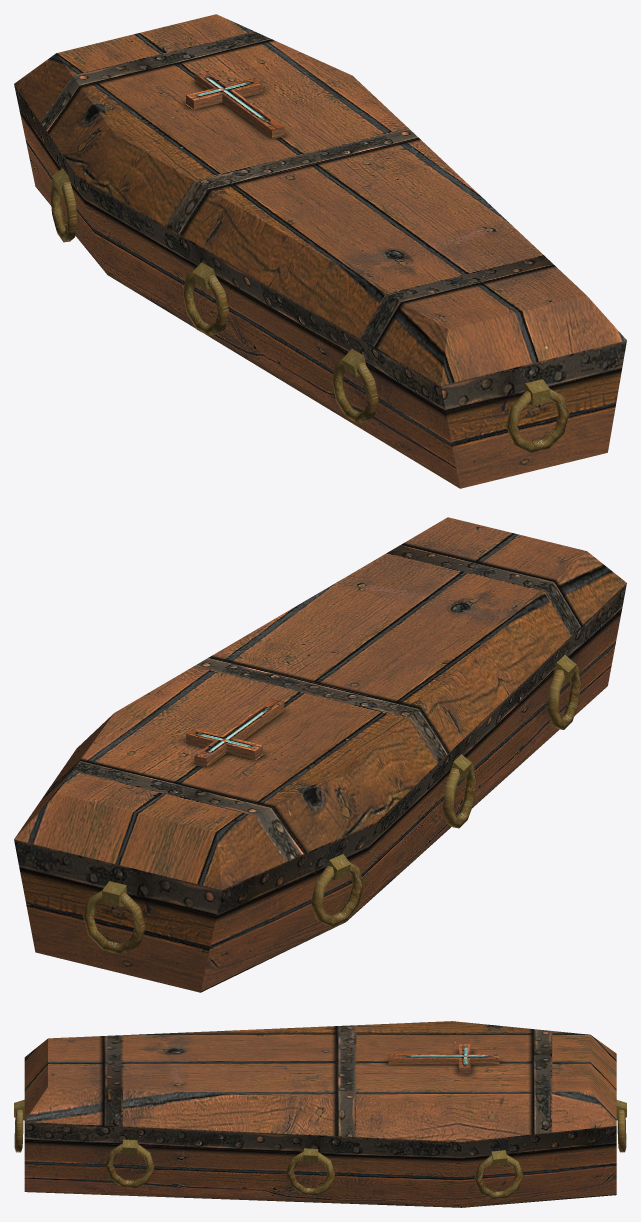
File: Coffin.fbx
The picture shows the model from 3 angles, top to bottom: view 1: azimuth 30°, elevation 25°; view 2: azimuth 150°, elevation 25°; view 3: azimuth 270°, elevation 25°; orthographic projection. The views are drawn at different scales.
Visible parts, largest first — view 1: coffin_lid, coffin_base; view 2: coffin_lid, coffin_base; view 3: coffin_lid, coffin_base.
Boxes of the visible parts, box(x1,y1,x2,y2) form: coffin_lid: box(14, 14, 626, 385); coffin_base: box(14, 84, 626, 488); coffin_lid: box(14, 517, 626, 889); coffin_base: box(14, 583, 626, 992); coffin_lid: box(24, 1021, 616, 1141); coffin_base: box(14, 1099, 626, 1207).
Bounding box in the file's own units: 1.25 × 0.651 × 3.12.
